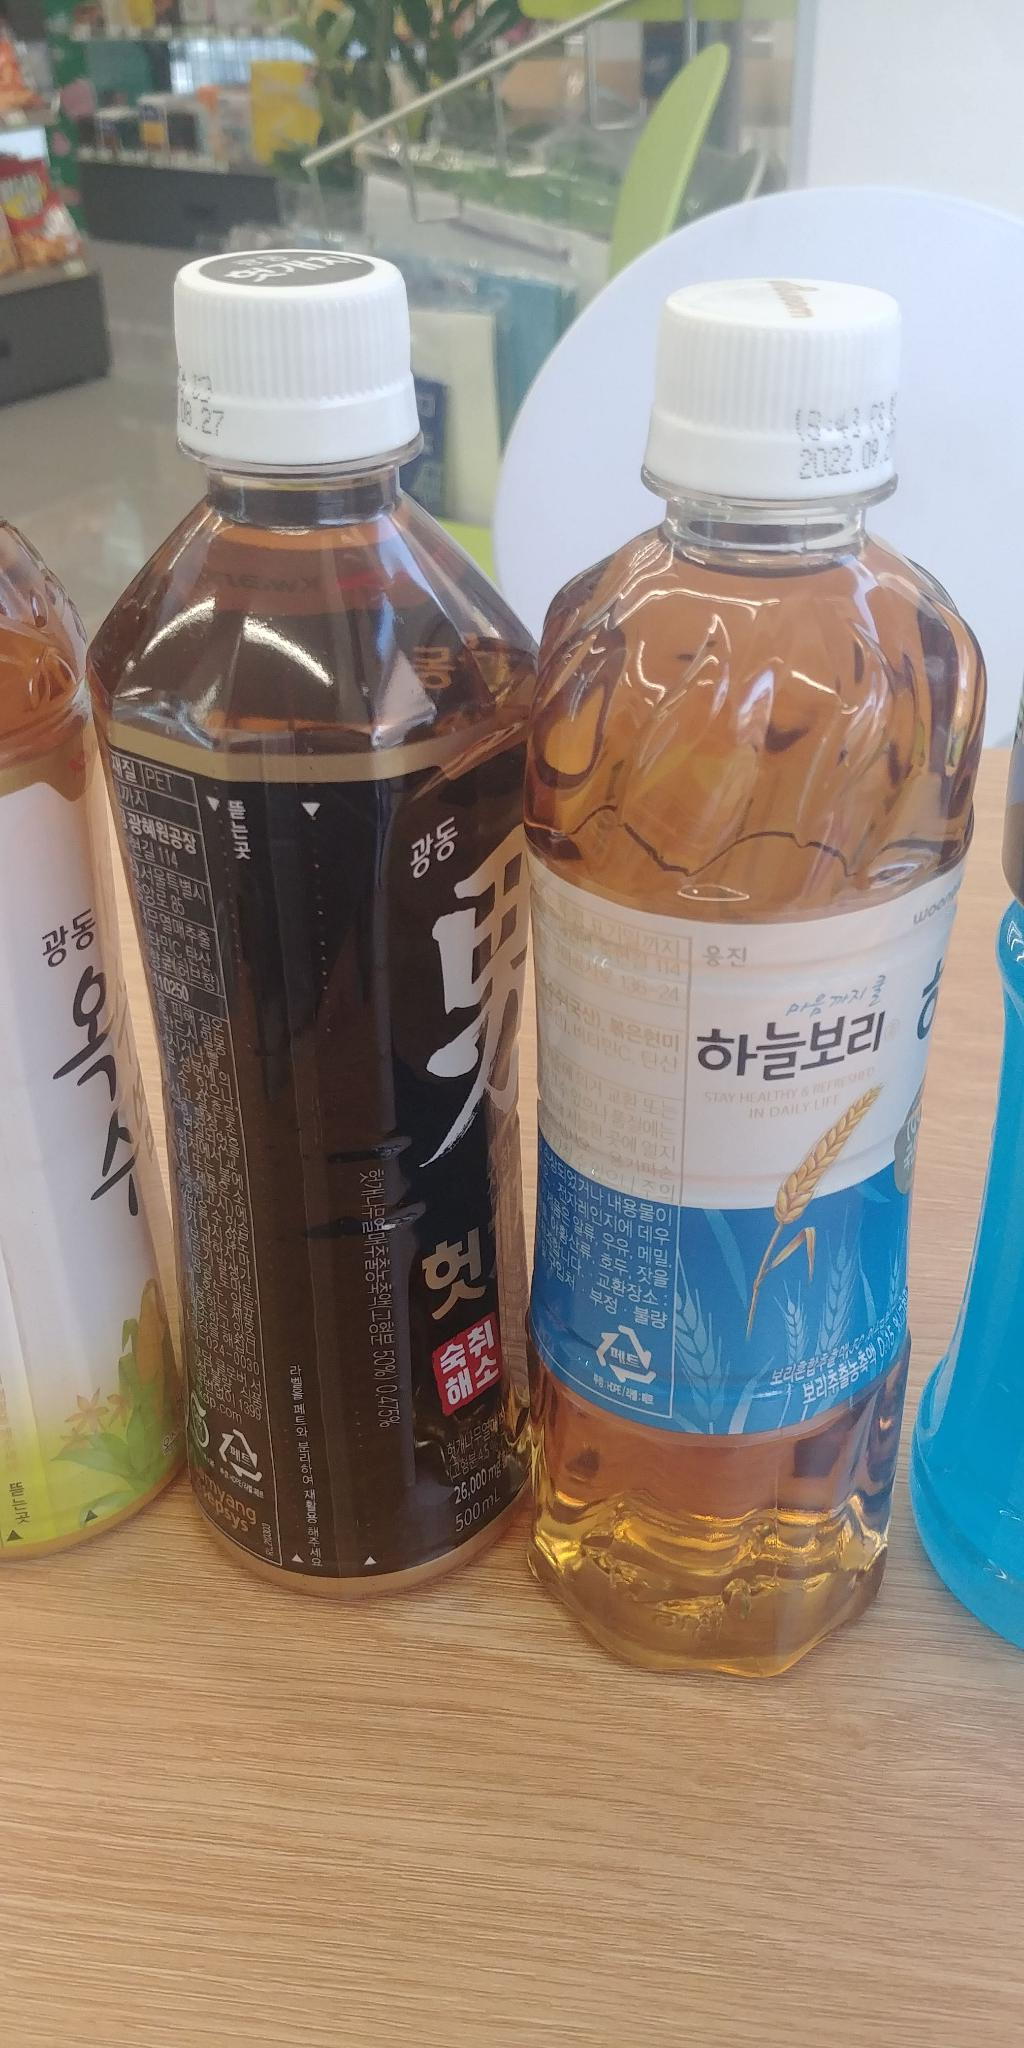haneulbori: (528, 259, 972, 1695)
heotgaecha: (47, 243, 596, 1607)
